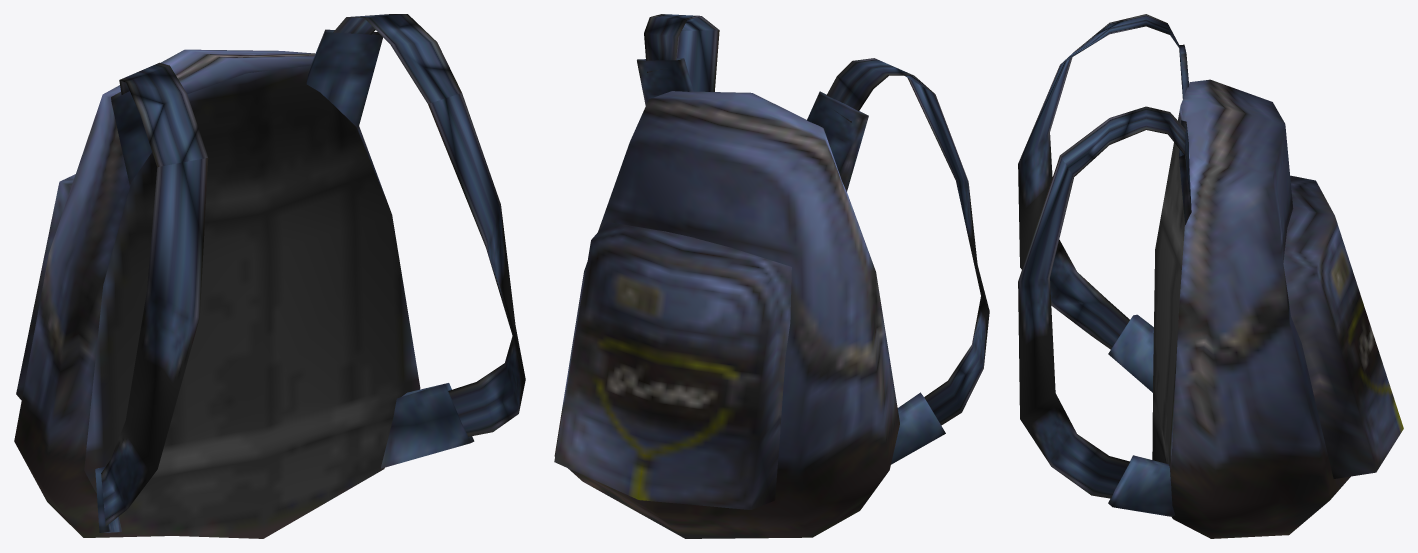
The model's file is icon_a.ico.obj.
The picture shows the model from 3 angles, left to right: view 1: azimuth 30°, elevation 25°; view 2: azimuth 150°, elevation 25°; view 3: azimuth 270°, elevation 25°; orthographic projection. The views are drawn at different scales.
Bounding box in the file's own units: 3.62 × 4.57 × 3.64.
1 material, 1 textured.
